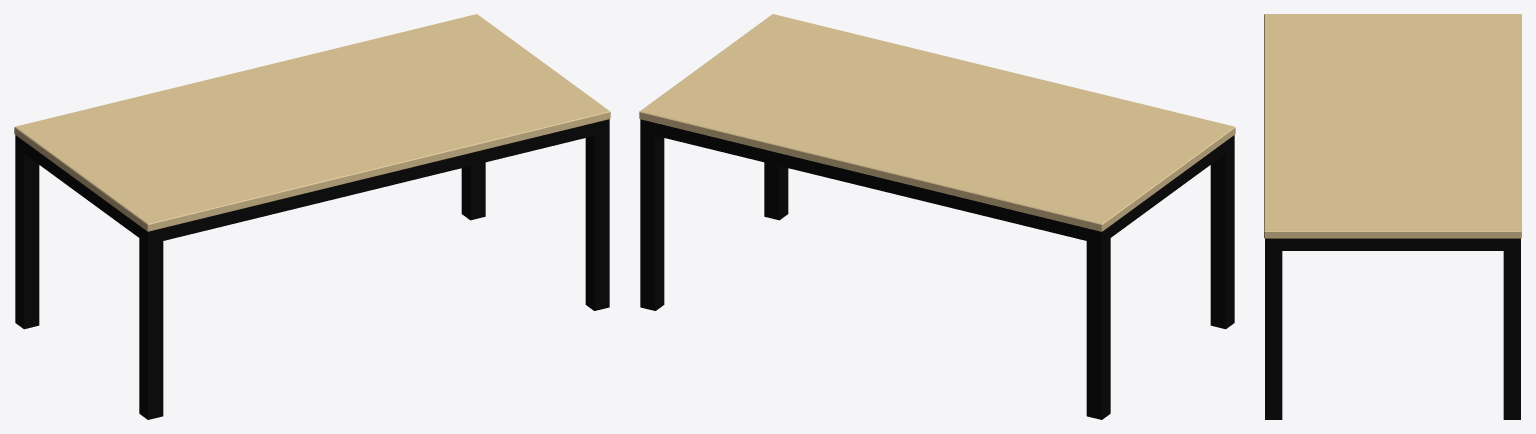
The model's file is table.fbx.
The picture shows the model from 3 angles, left to right: view 1: azimuth 30°, elevation 25°; view 2: azimuth 150°, elevation 25°; view 3: azimuth 270°, elevation 25°; orthographic projection. The views are drawn at different scales.
Visible parts, largest first — view 1: table; view 2: table; view 3: table.
Boxes of the visible parts, x1,y1,x2,y2 form: table: (14, 14, 610, 419); table: (639, 14, 1235, 419); table: (1264, 14, 1521, 419).
Size of the model in its own units: 18288 by 7398 by 9144.
